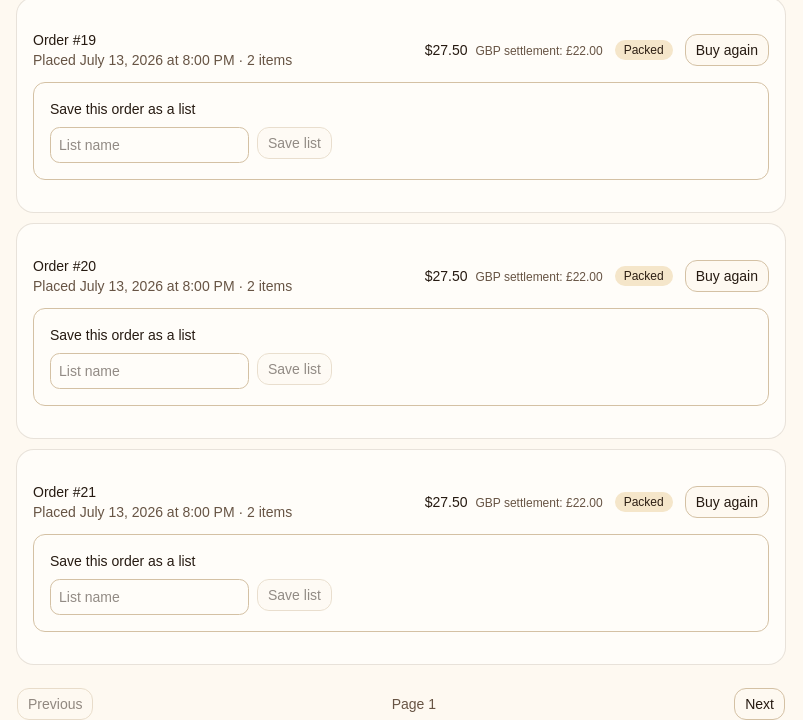
Scenario: customer order UI › renders list results and advances the URL-owned page
This screenshot has width=803, height=720.
(page scrolled)
Step 1. Click the button "Next" → (760, 704), box [734, 688, 785, 719]
(page scrolled)
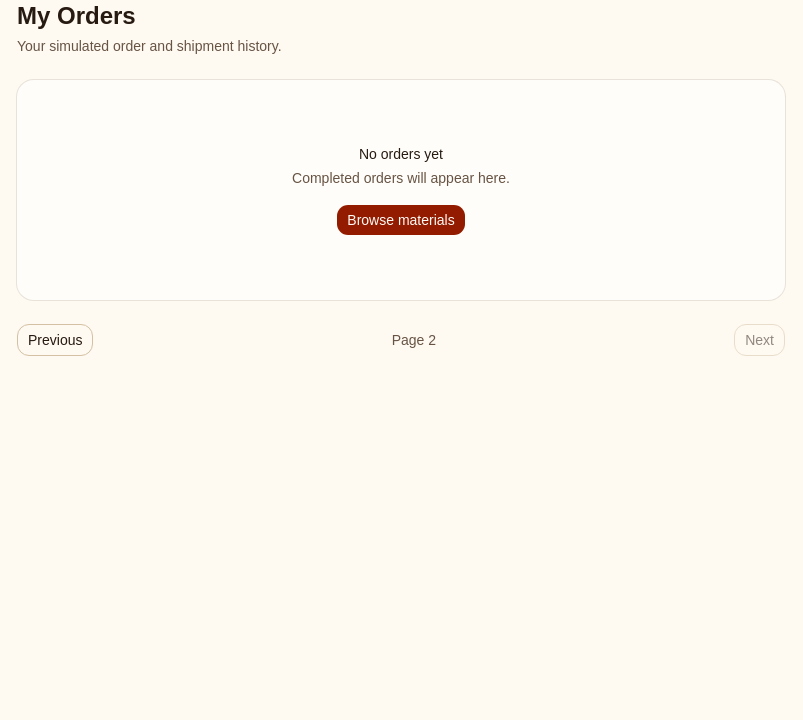
Expected: the text "No orders yet" is shown, [359, 146, 443, 162]
